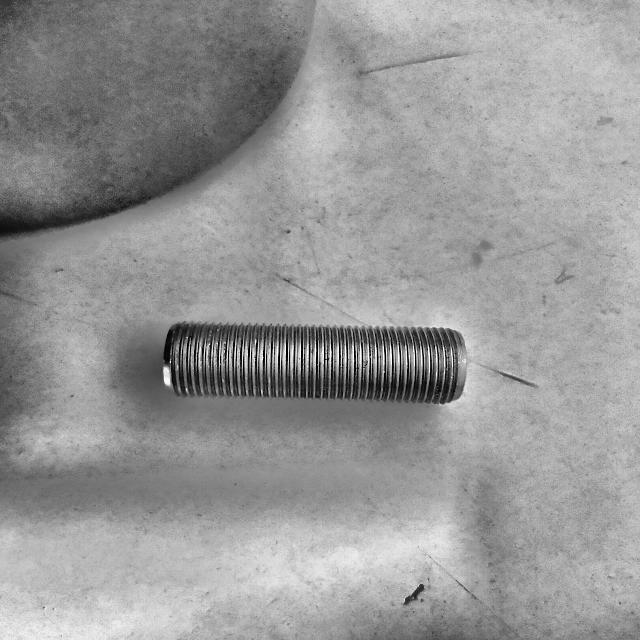Normal: (166, 320, 466, 405)
